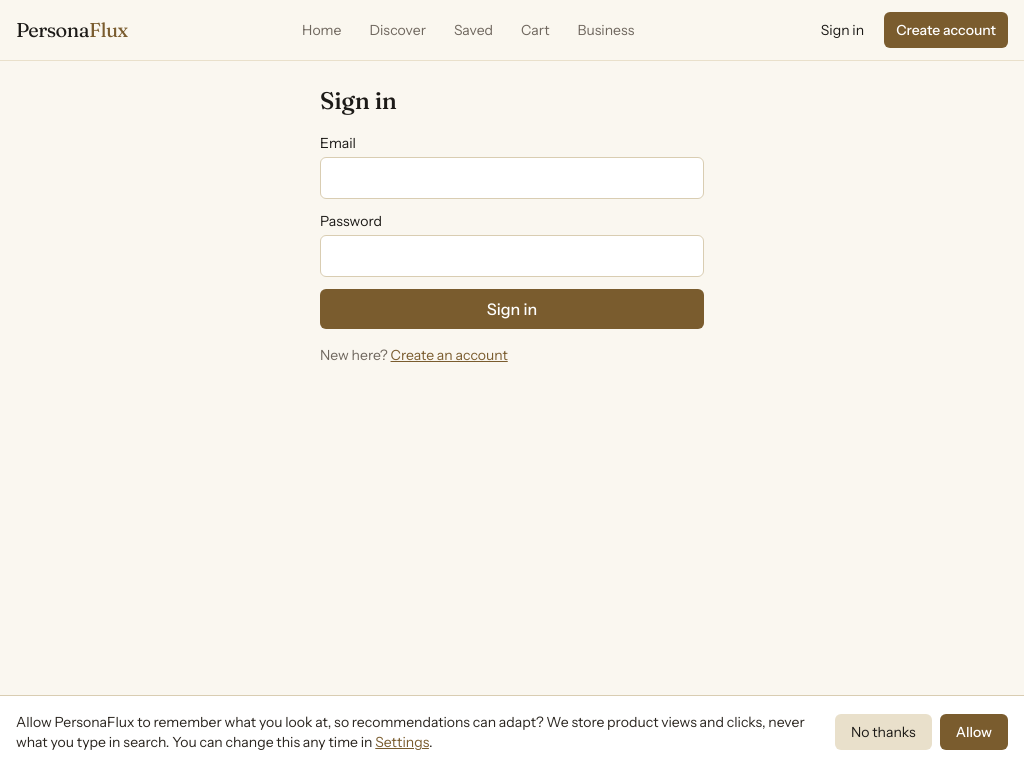
Test: signing in and out › shows the server's message for wrong credentials and stays on the form
Type "ann@shop.dev" into the field labelled "Email" at (512, 178), box [320,157,704,199]
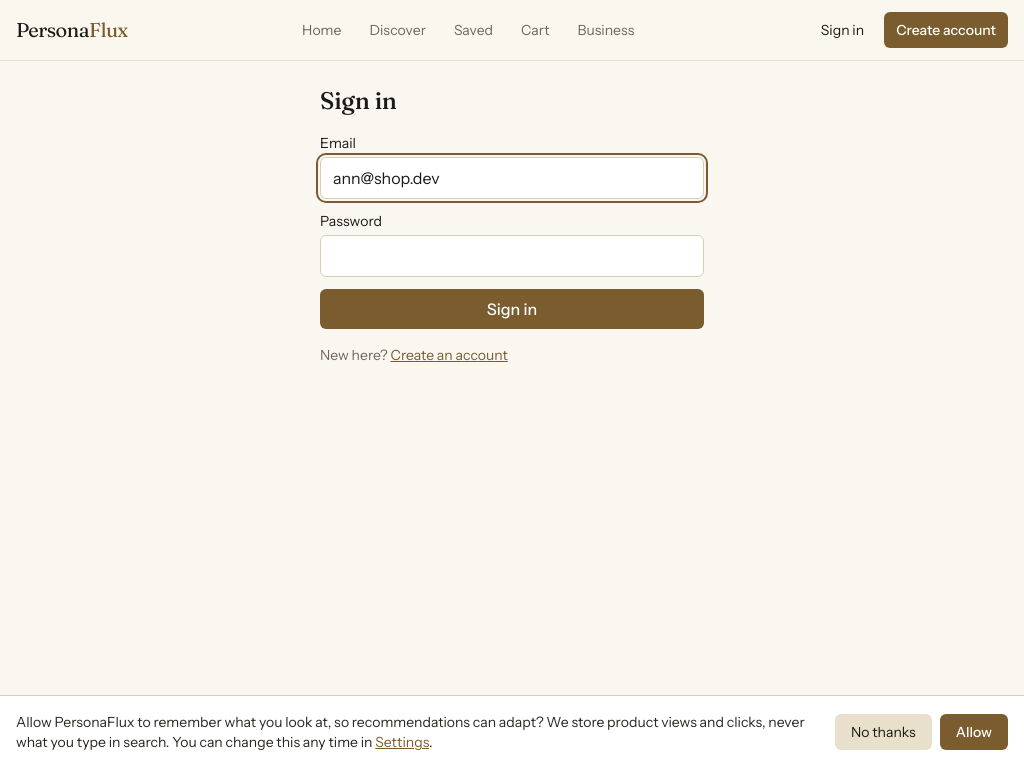
Type "wrong-password-1" into the password field labelled "Password" at (512, 256), box [320,235,704,277]
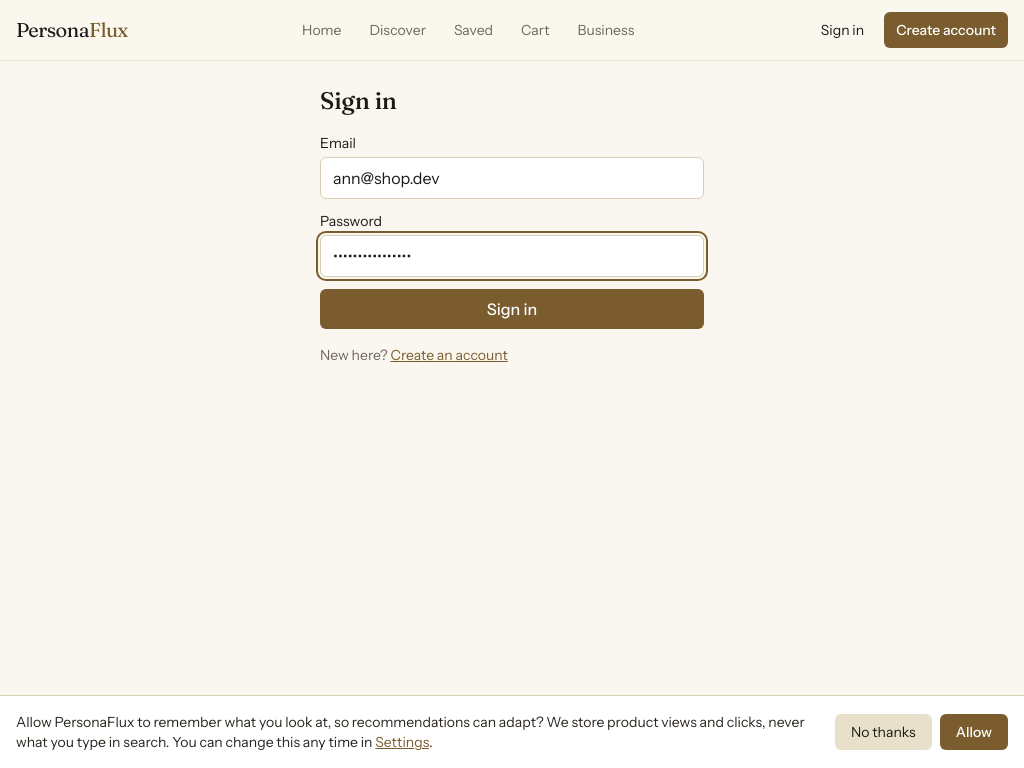
Click the button "Sign in" at (512, 309), box [320,289,704,329]
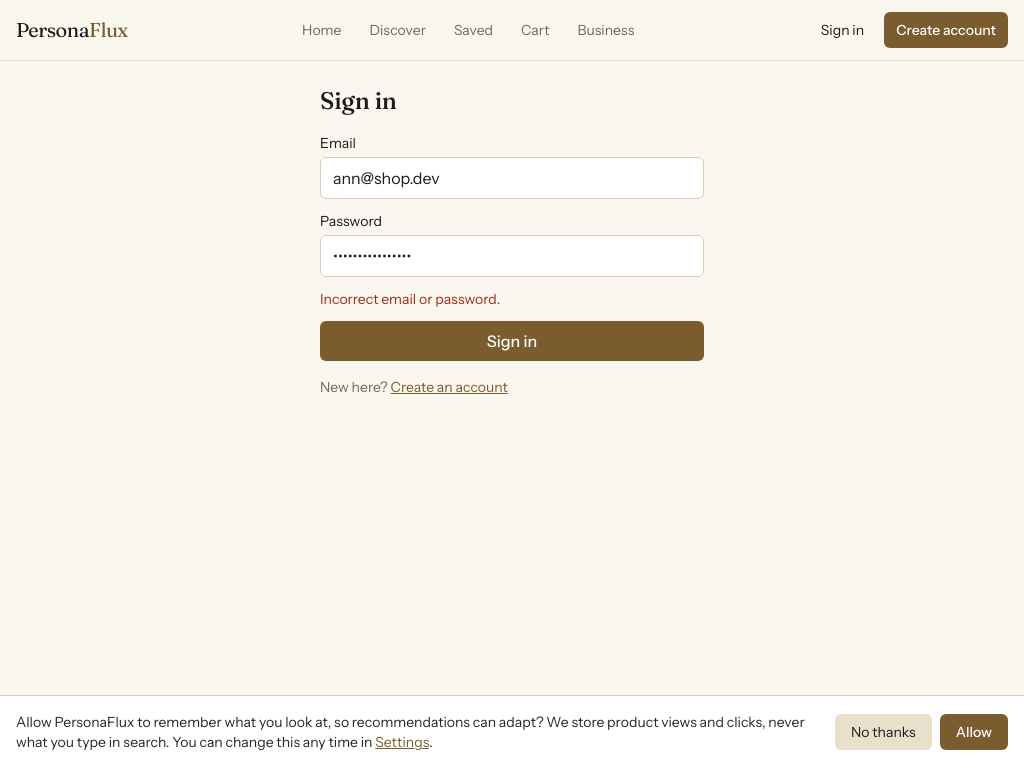
expect the heading "Sign in" is shown: met, box [320,86,397,115]
expect the message reads "Incorrect email or password.": met, box [320,290,500,308]
